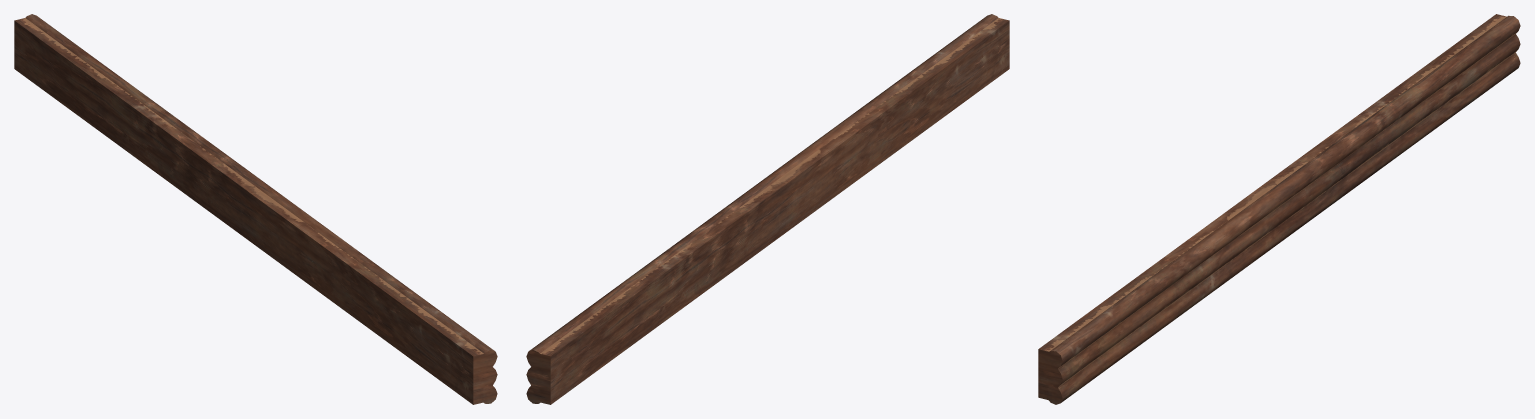
The model's file is Kit_WoodThinPlank.fbx.
3 renders of one model, left to right at view 1: azimuth 30°, elevation 25°; view 2: azimuth 150°, elevation 25°; view 3: azimuth 330°, elevation 25°, orthographic.
Visible parts, largest first — view 1: Kit_WoodThinPlank; view 2: Kit_WoodThinPlank; view 3: Kit_WoodThinPlank.
Boxes of the visible parts, <box> form: Kit_WoodThinPlank: <box>14,14,497,404</box>; Kit_WoodThinPlank: <box>526,14,1009,404</box>; Kit_WoodThinPlank: <box>1038,14,1520,404</box>.
Size of the model in its own units: 4.82 by 10.19 by 157.
